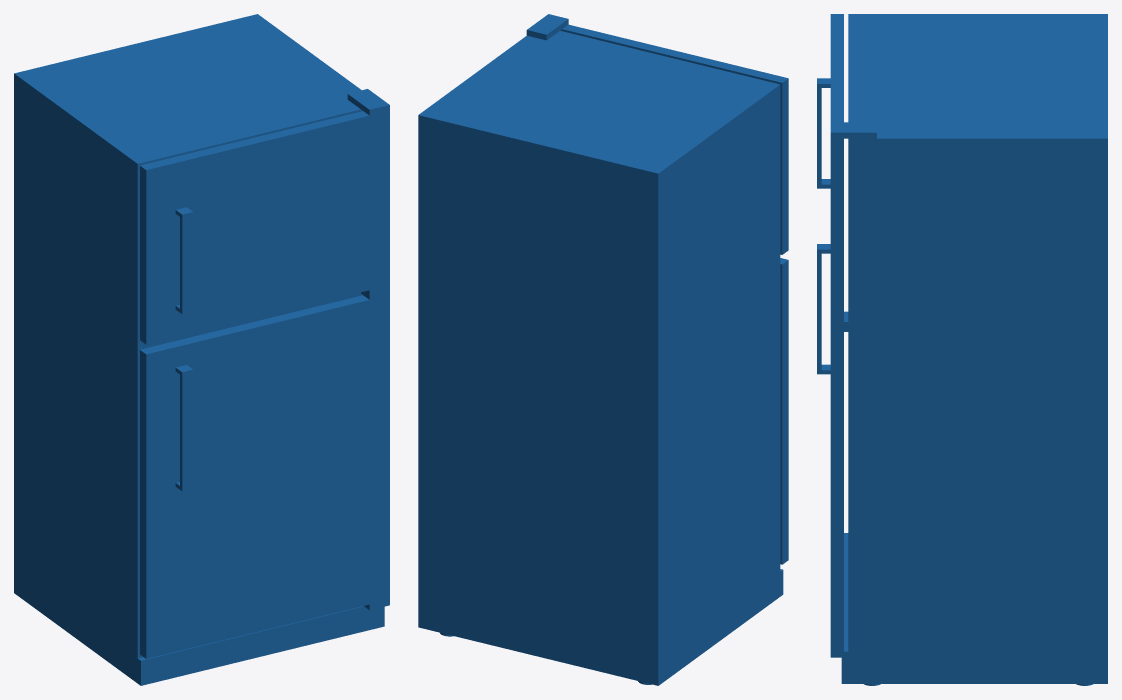
File: Ref.fbx
3 views of the same model, side by side, from view 1: azimuth 30°, elevation 25°; view 2: azimuth 150°, elevation 25°; view 3: azimuth 270°, elevation 25° (orthographic). The views are drawn at different scales.
Visible parts, largest first — view 1: instance_0.004, instance_0.007, instance_0.008; view 2: instance_0.004; view 3: instance_0.004, instance_0.007, instance_0.008.
Part boxes in pixels (x1,y1,x2,y2): instance_0.004: (14, 14, 389, 685); instance_0.007: (175, 365, 193, 491); instance_0.008: (175, 207, 193, 314); instance_0.004: (418, 14, 788, 685); instance_0.004: (830, 14, 1107, 685); instance_0.007: (817, 244, 830, 374); instance_0.008: (817, 78, 830, 188).
Bounding box in the file's own units: 83.82 × 175 × 82.55.
